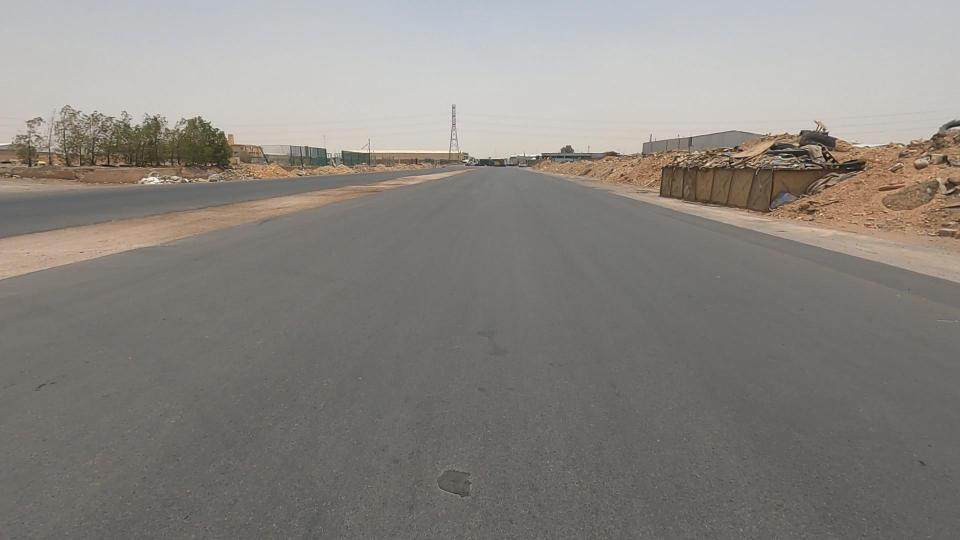CLUTTER_SIDEWALK: (0, 185, 244, 295), (170, 172, 383, 256), (310, 155, 461, 210)
GARBAGE: (709, 102, 859, 185), (635, 120, 758, 191), (745, 176, 838, 235), (104, 147, 193, 207), (154, 157, 238, 193)
SAND_ON_ROAD: (797, 137, 951, 248), (540, 134, 693, 206)
